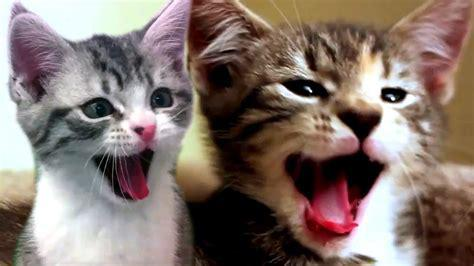cat: (187, 1, 474, 266), (9, 1, 190, 266)
